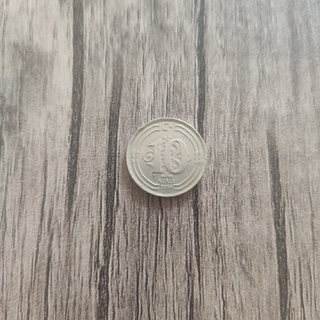10KURUS: (123, 114, 208, 199)
